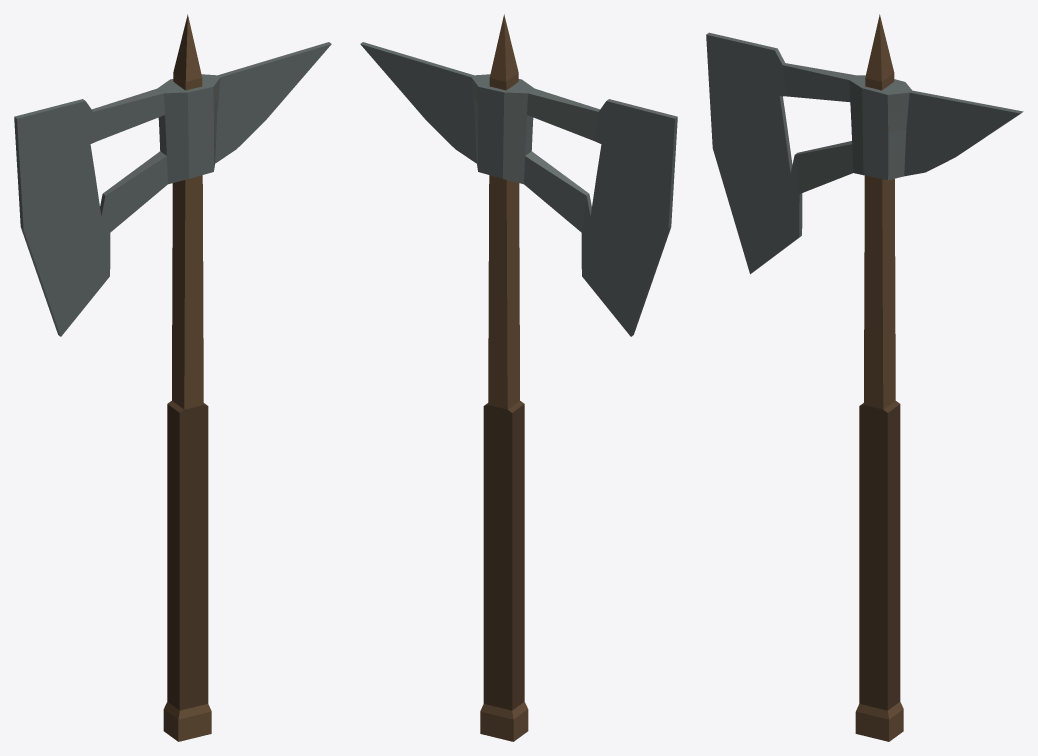
File: Axe_5_Brown.fbx
3 views of the same model, side by side, from view 1: azimuth 30°, elevation 25°; view 2: azimuth 150°, elevation 25°; view 3: azimuth 330°, elevation 25° (orthographic).
Parts seen in each view (by area): view 1: Axe_5_Brown_Part_1, Axe_5_Brown_Part_3, Axe_5_Brown_Part_2; view 2: Axe_5_Brown_Part_1, Axe_5_Brown_Part_3, Axe_5_Brown_Part_2; view 3: Axe_5_Brown_Part_1, Axe_5_Brown_Part_3, Axe_5_Brown_Part_2.
Boxes of the visible parts, left/top/right/bottom form: Axe_5_Brown_Part_1: left=14, top=42, right=331, bottom=336; Axe_5_Brown_Part_3: left=167, top=401, right=208, bottom=710; Axe_5_Brown_Part_2: left=163, top=14, right=211, bottom=741; Axe_5_Brown_Part_1: left=360, top=42, right=677, bottom=336; Axe_5_Brown_Part_3: left=483, top=401, right=524, bottom=710; Axe_5_Brown_Part_2: left=480, top=14, right=528, bottom=741; Axe_5_Brown_Part_1: left=706, top=32, right=1023, bottom=274; Axe_5_Brown_Part_3: left=859, top=400, right=900, bottom=710; Axe_5_Brown_Part_2: left=855, top=14, right=903, bottom=741.
Bounding box in the file's own units: 36.84 × 80.34 × 3.59.
